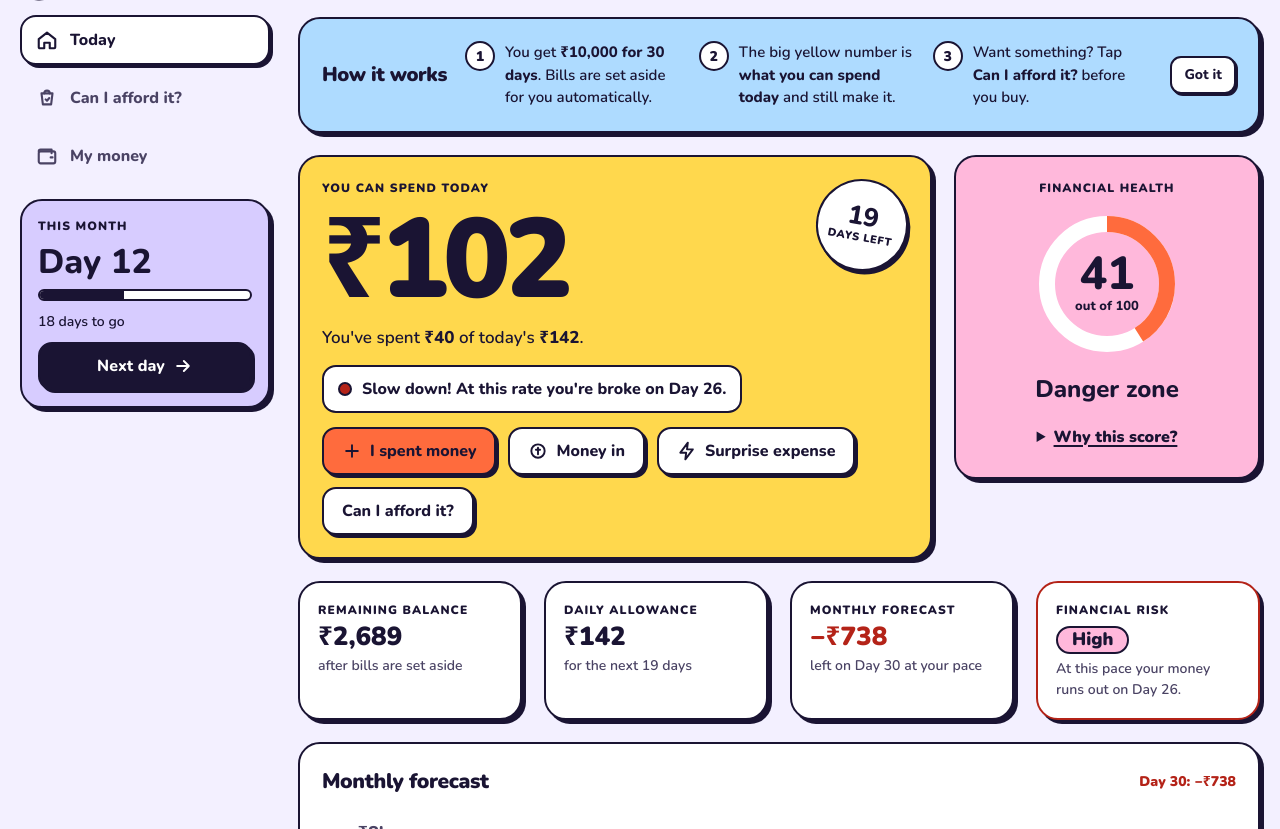
Test: Today › records money coming in and raises the allowance
Click the button "Money in": (577, 451) [508,427,645,475]
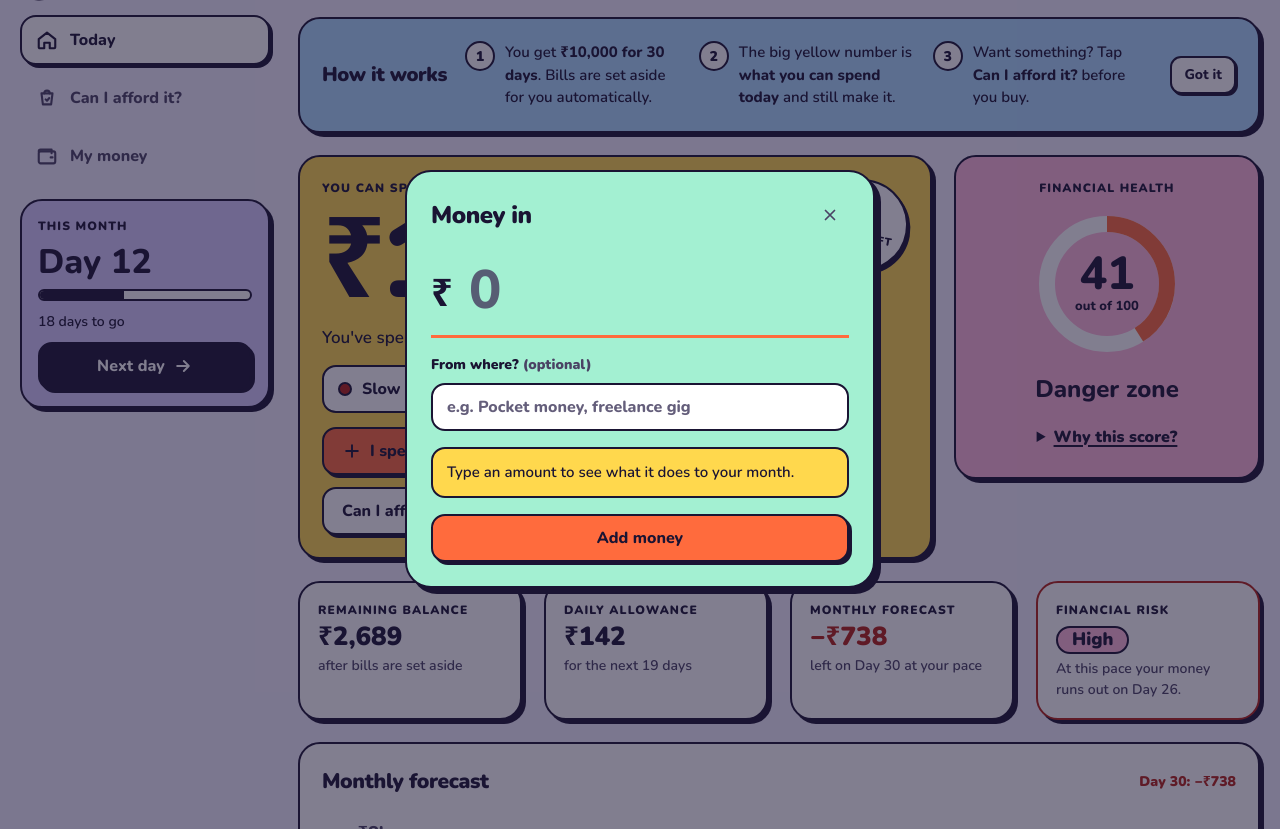
In the field named "Amount in rupees": (640, 293) [431,250,849,335], type "1500"
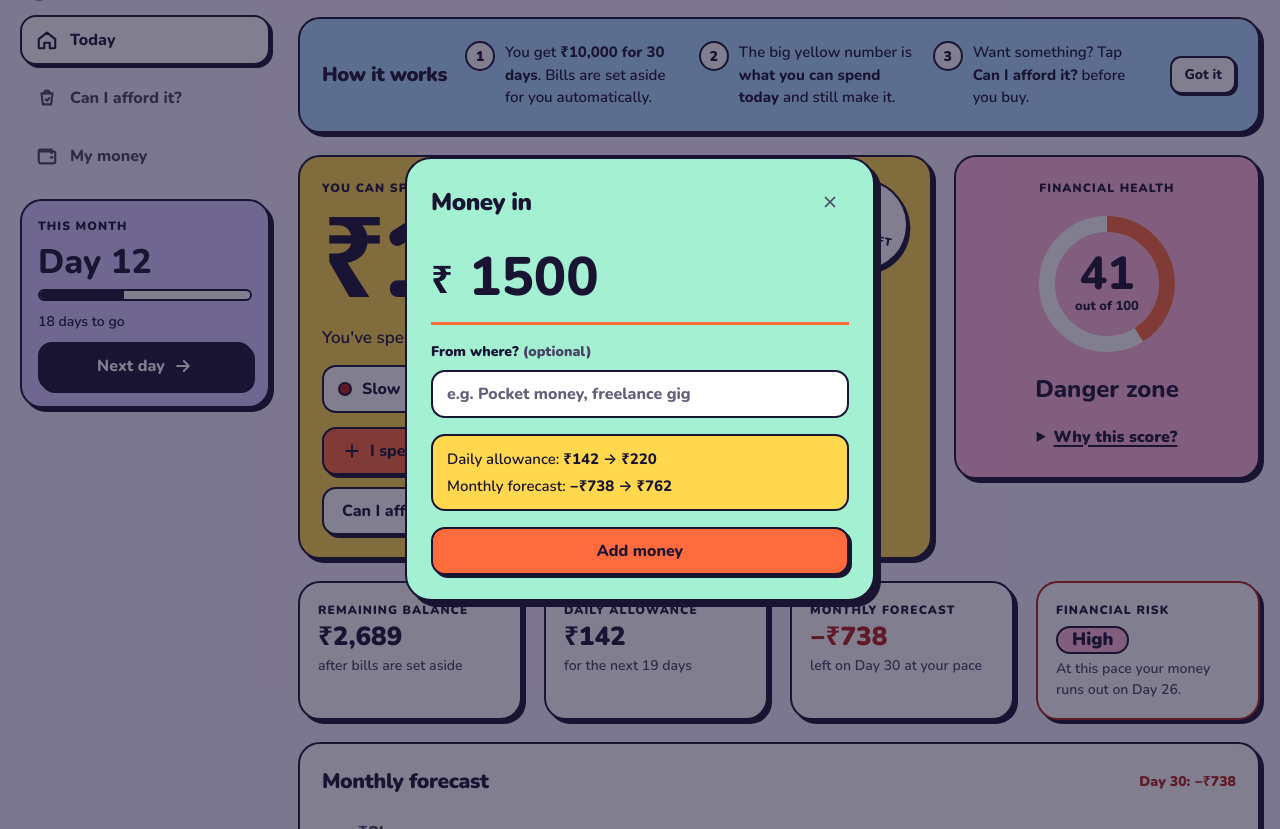
In the field labelled "From where? (optional)": (640, 394) [431,370,849,418], type "Freelance gig"
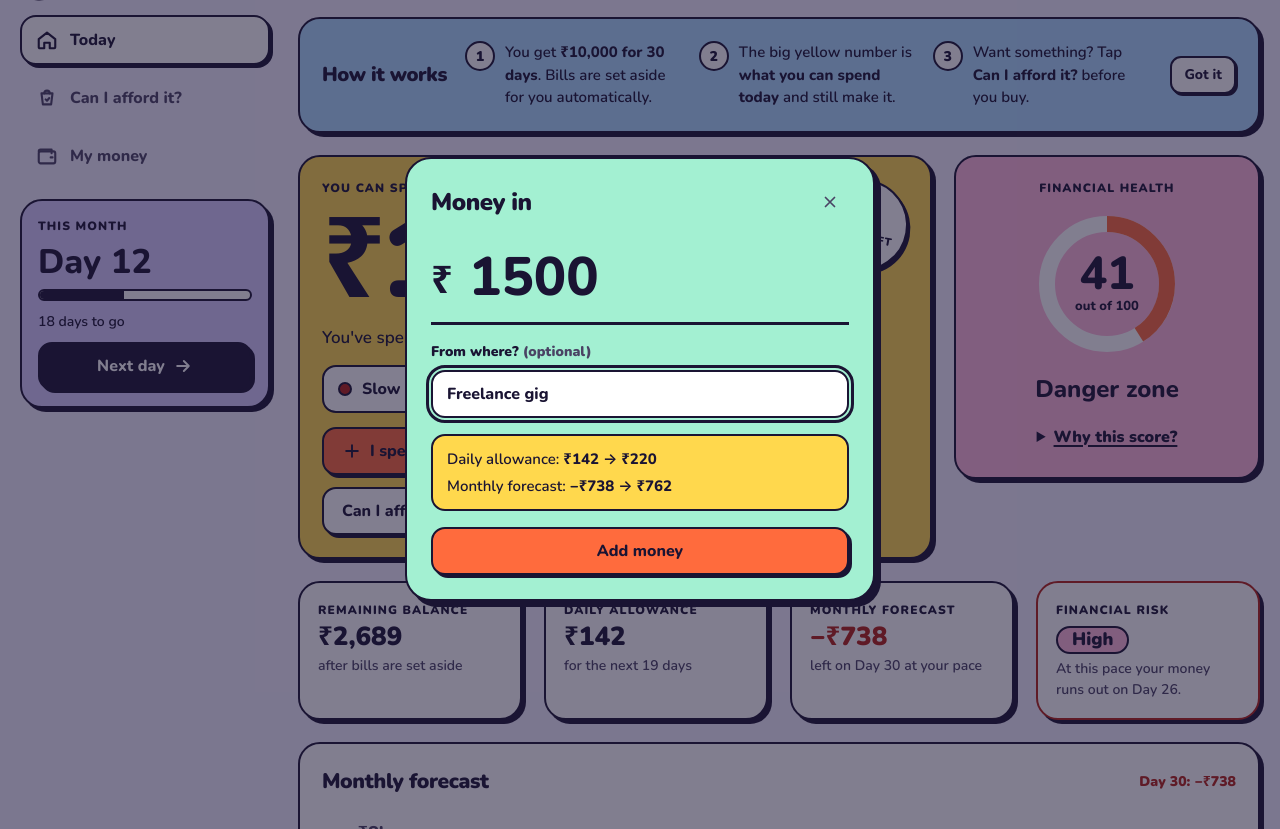
Click the button "Add money": (640, 551) [431,527,849,575]
(page scrolled)
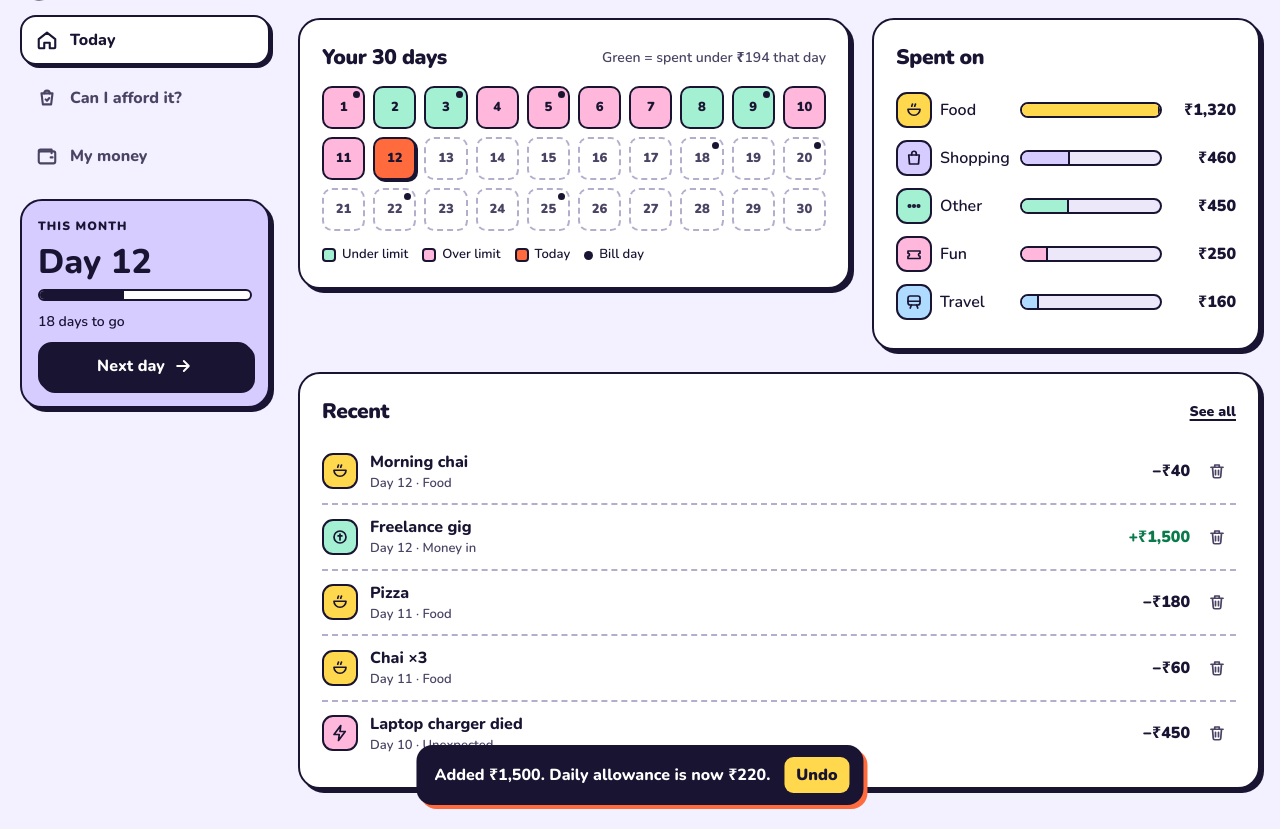
Check: the message shows "Added ₹1,500", box [434,764,770,786]
Check: the text "Freelance gig" is shown, box [370,515,476,539]
